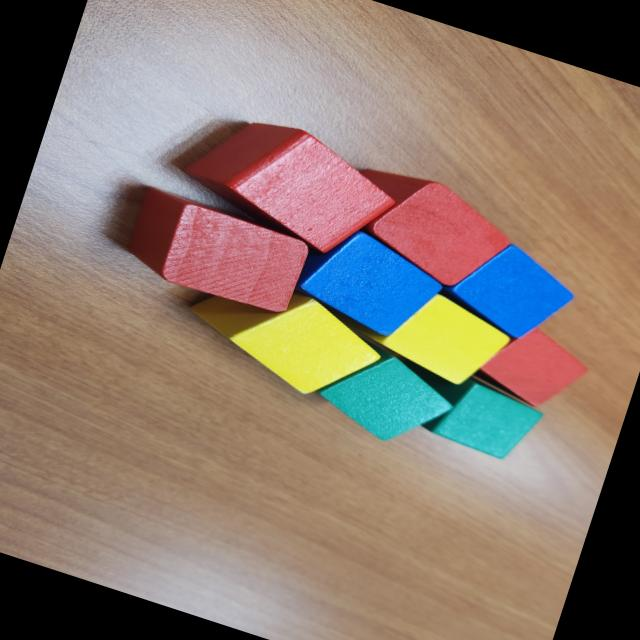blue: (289, 213, 452, 349), (432, 226, 584, 352)
green: (306, 328, 466, 461), (418, 366, 548, 468)
red: (169, 98, 408, 272), (333, 157, 522, 301), (120, 185, 313, 321), (473, 314, 597, 420)
yellow: (174, 261, 399, 417), (344, 270, 522, 398)
